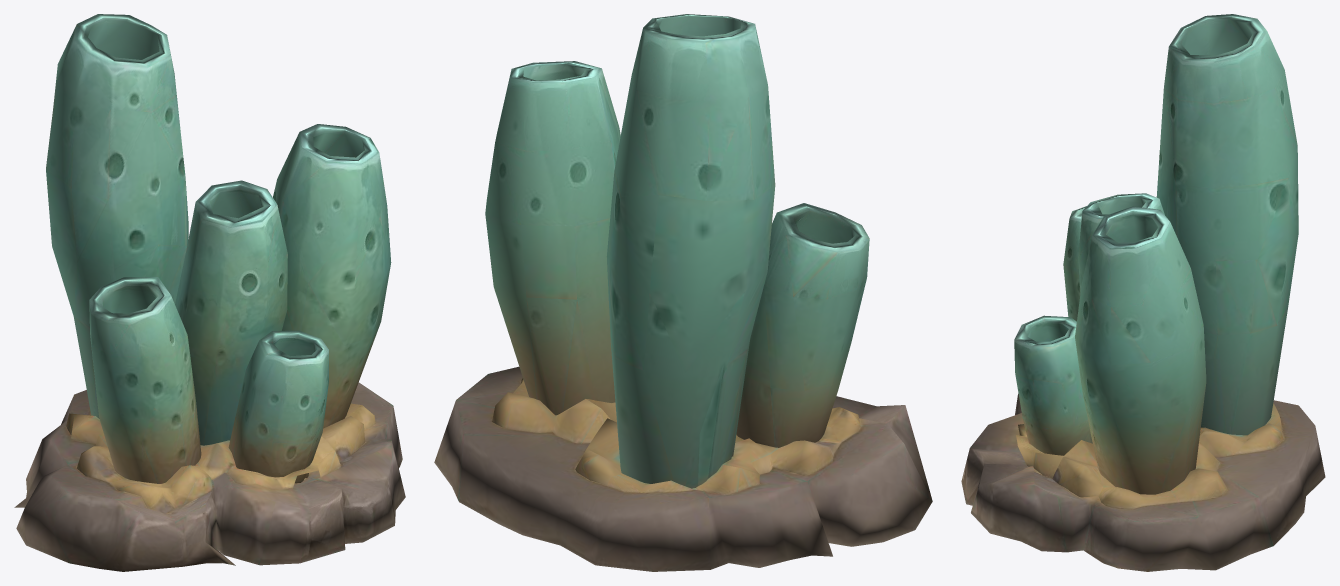
File: Aqua_Sponge_Cluster.glb
3 renders of one model, left to right at view 1: azimuth 30°, elevation 25°; view 2: azimuth 150°, elevation 25°; view 3: azimuth 270°, elevation 25°, orthographic. The views are drawn at different scales.
Visible parts, largest first — view 1: mesh_node; view 2: mesh_node; view 3: mesh_node.
Boxes of the visible parts, box(x1,y1,x2,y2) form: mesh_node: box(14, 14, 405, 571); mesh_node: box(434, 14, 932, 571); mesh_node: box(961, 14, 1325, 571).
Bounding box in the file's own units: 0.8906 × 1 × 0.7676.
Materials: 1 (1 with a texture image).
